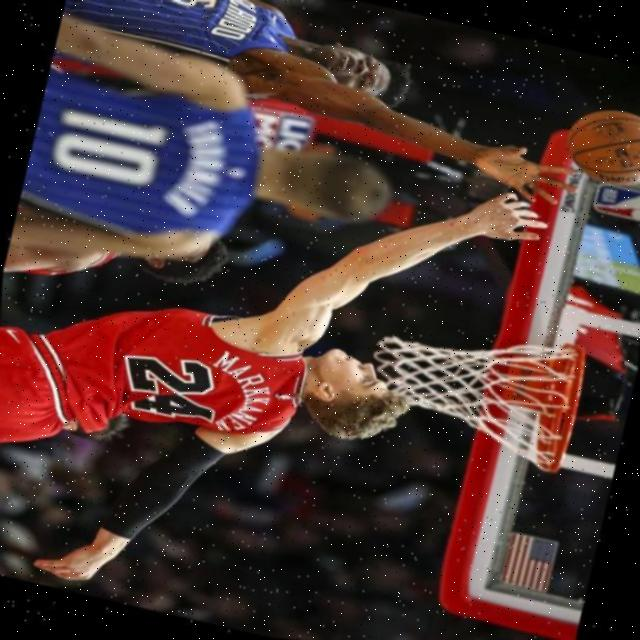ball: (558, 98, 640, 193)
hoop: (534, 342, 588, 478)
